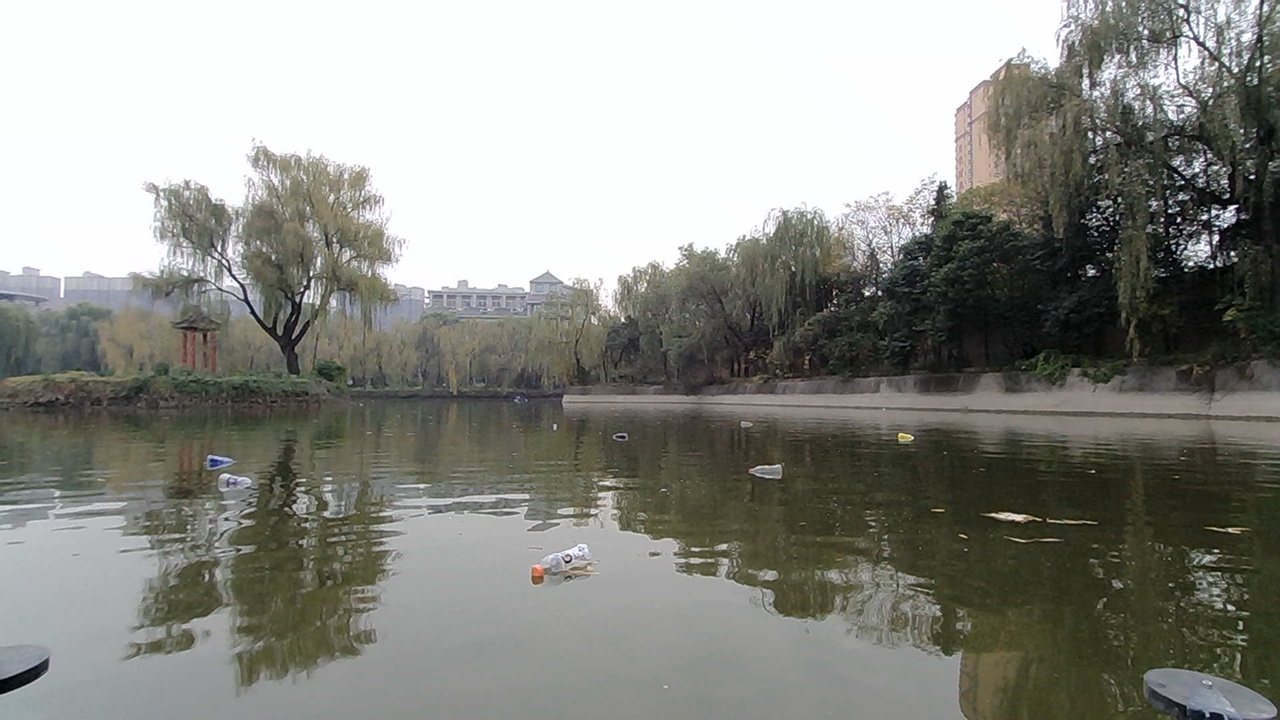bottle: (526, 534, 602, 588), (210, 458, 259, 502), (744, 447, 791, 489), (887, 420, 921, 457), (542, 411, 573, 446), (614, 416, 637, 449), (205, 450, 229, 477)
